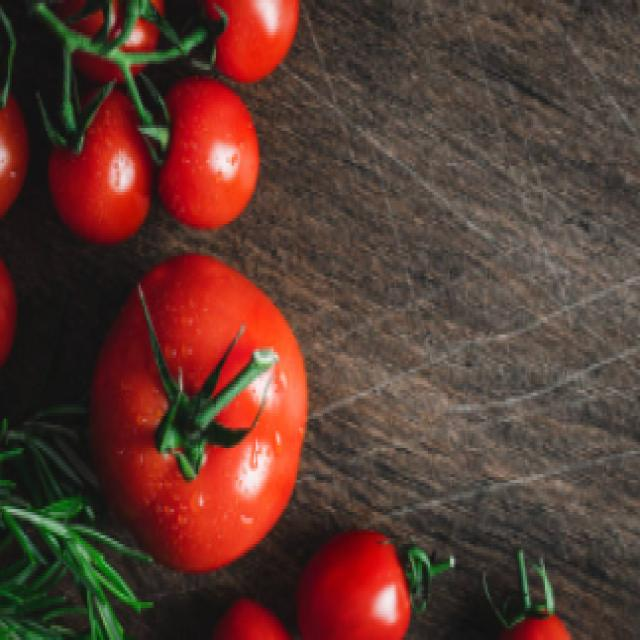Tomato: (78, 261, 319, 577)
